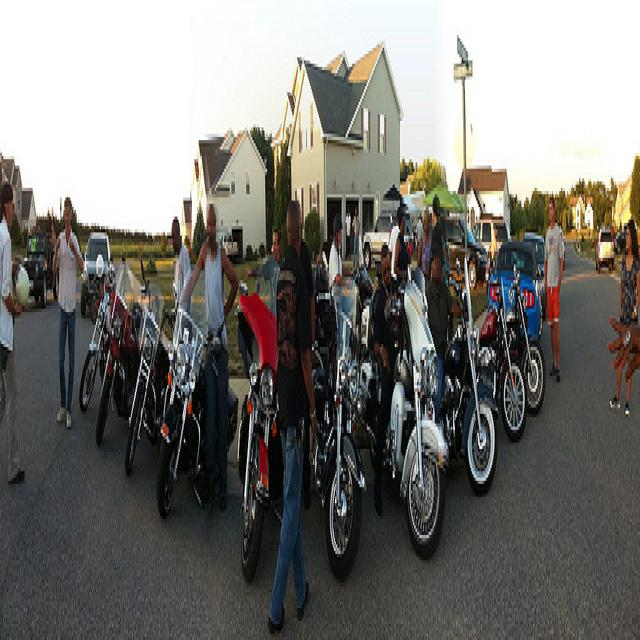motor: (360, 275, 449, 559), (305, 267, 368, 582), (157, 307, 238, 518), (441, 252, 501, 495), (232, 289, 281, 582), (124, 258, 175, 476), (95, 287, 142, 450), (478, 298, 527, 442), (504, 267, 547, 417), (79, 262, 116, 413)
